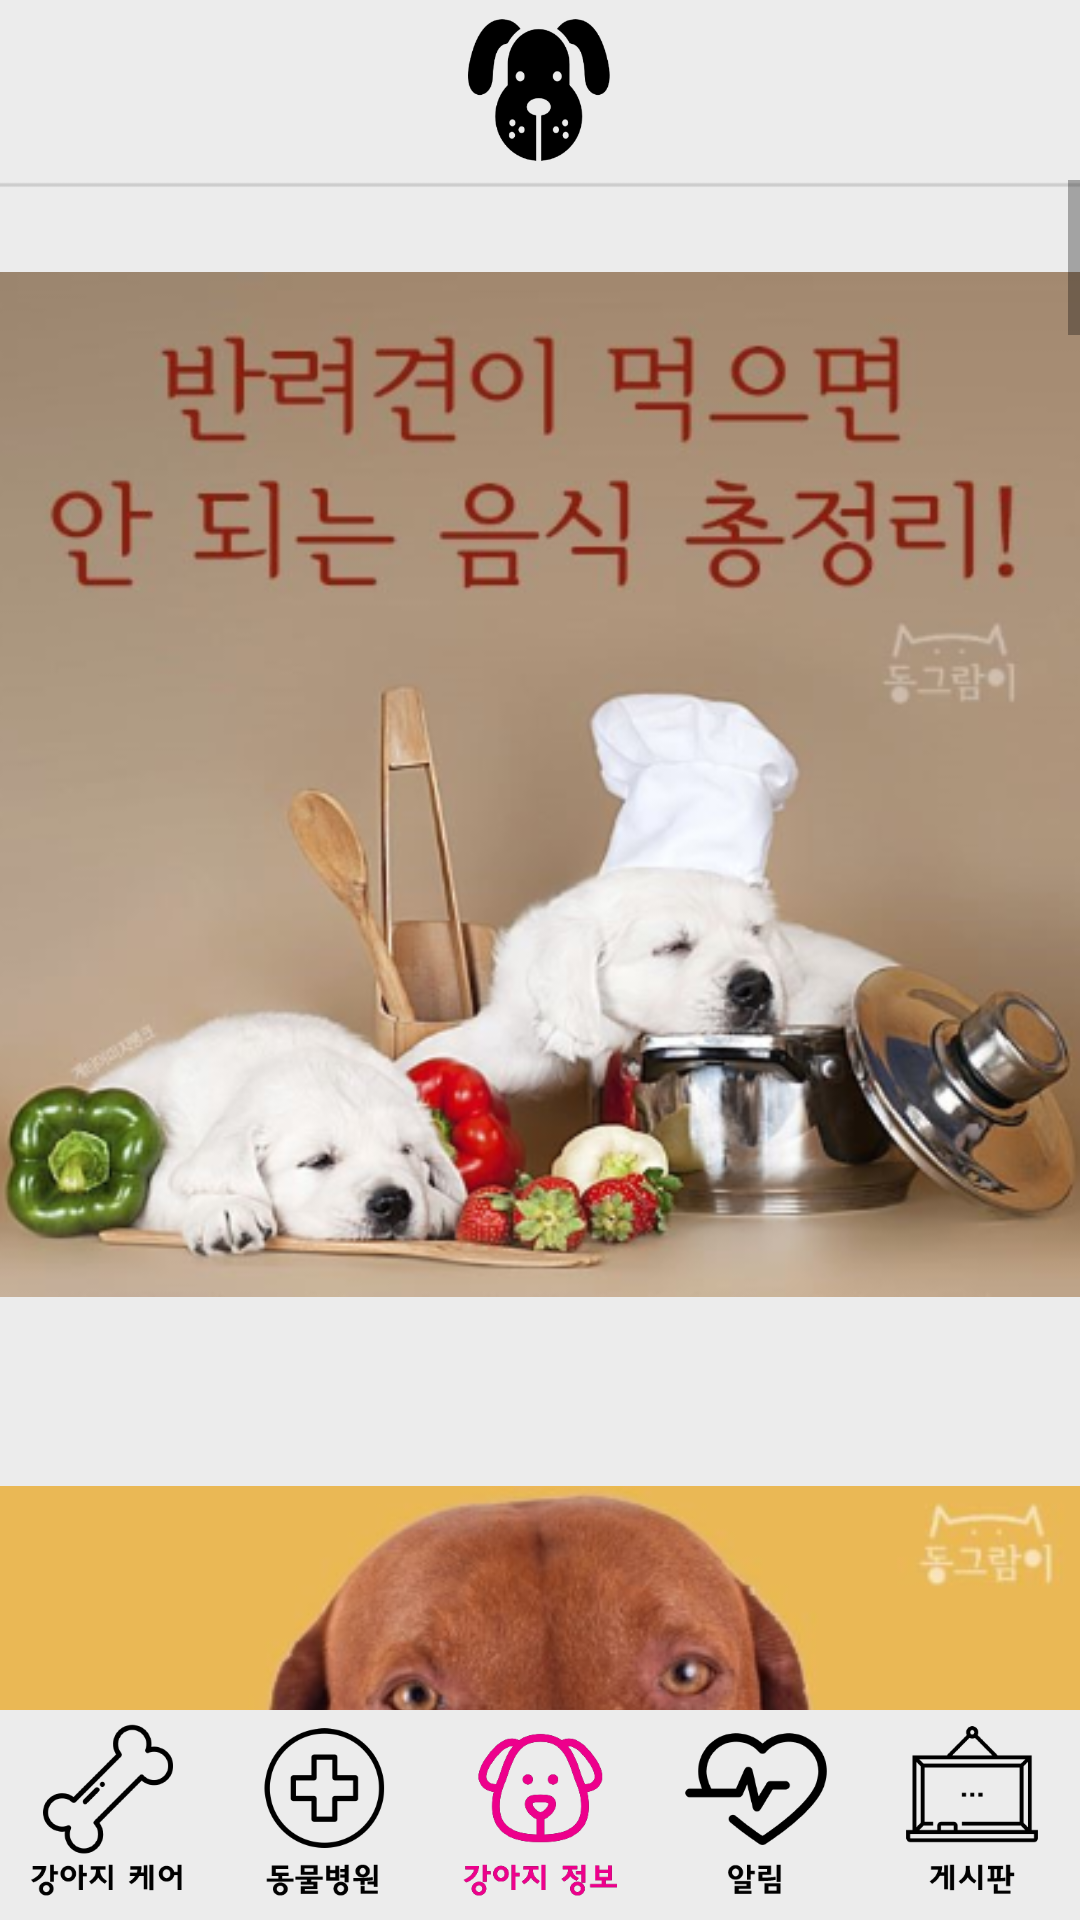

Point at icon controls on the screen. Image size 1080 x 1920, points as (x,y).
dogdogface: (539,90)
